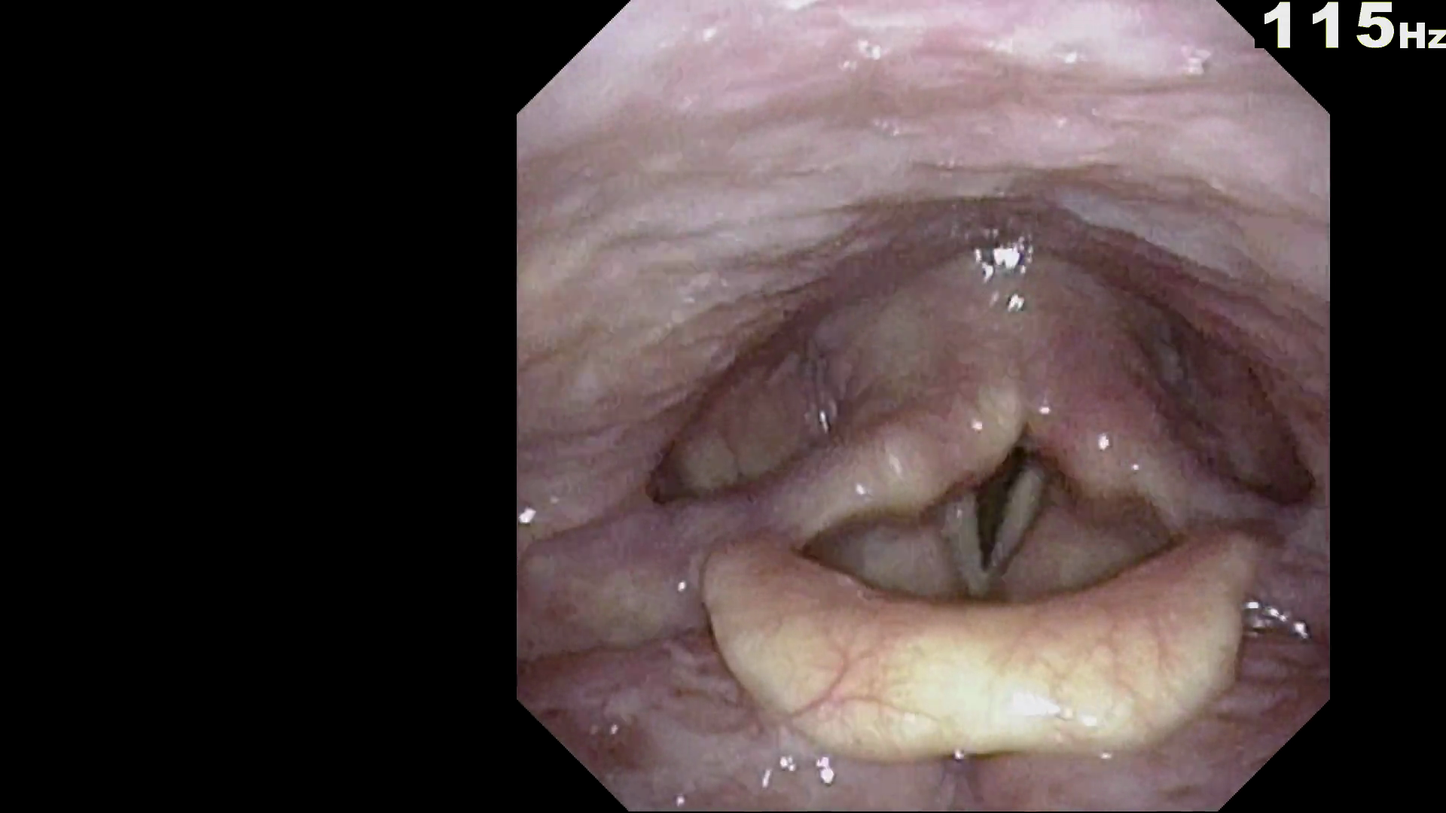epiglottis: (676, 526, 1272, 758)
trachea: (924, 431, 1054, 579)
